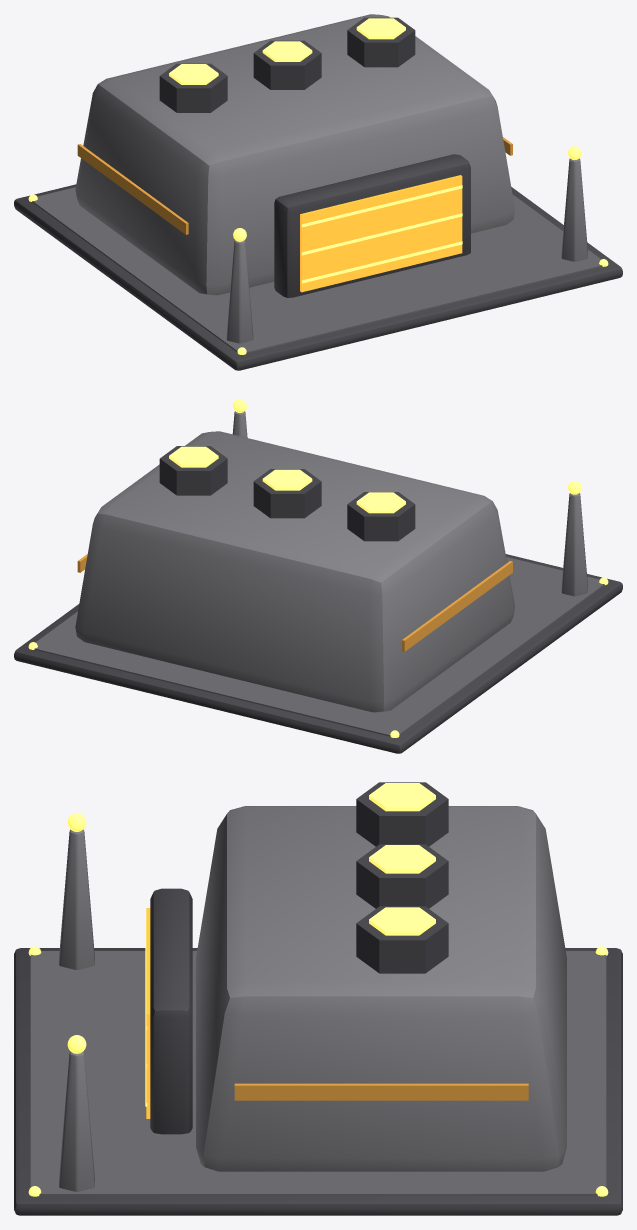
The model's file is factory_rob.glb.
3 renders of one model, top to bottom at view 1: azimuth 30°, elevation 25°; view 2: azimuth 150°, elevation 25°; view 3: azimuth 270°, elevation 25°, orthographic. The views are drawn at different scales.
Parts seen in each view (by area): view 1: factory_rob; view 2: factory_rob; view 3: factory_rob.
Boxes of the visible parts, bbox=[...] form: factory_rob: bbox=[14, 14, 622, 370]; factory_rob: bbox=[14, 399, 622, 753]; factory_rob: bbox=[14, 782, 622, 1215].
Size of the model in its own units: 2.9 by 1.22 by 2.9.
